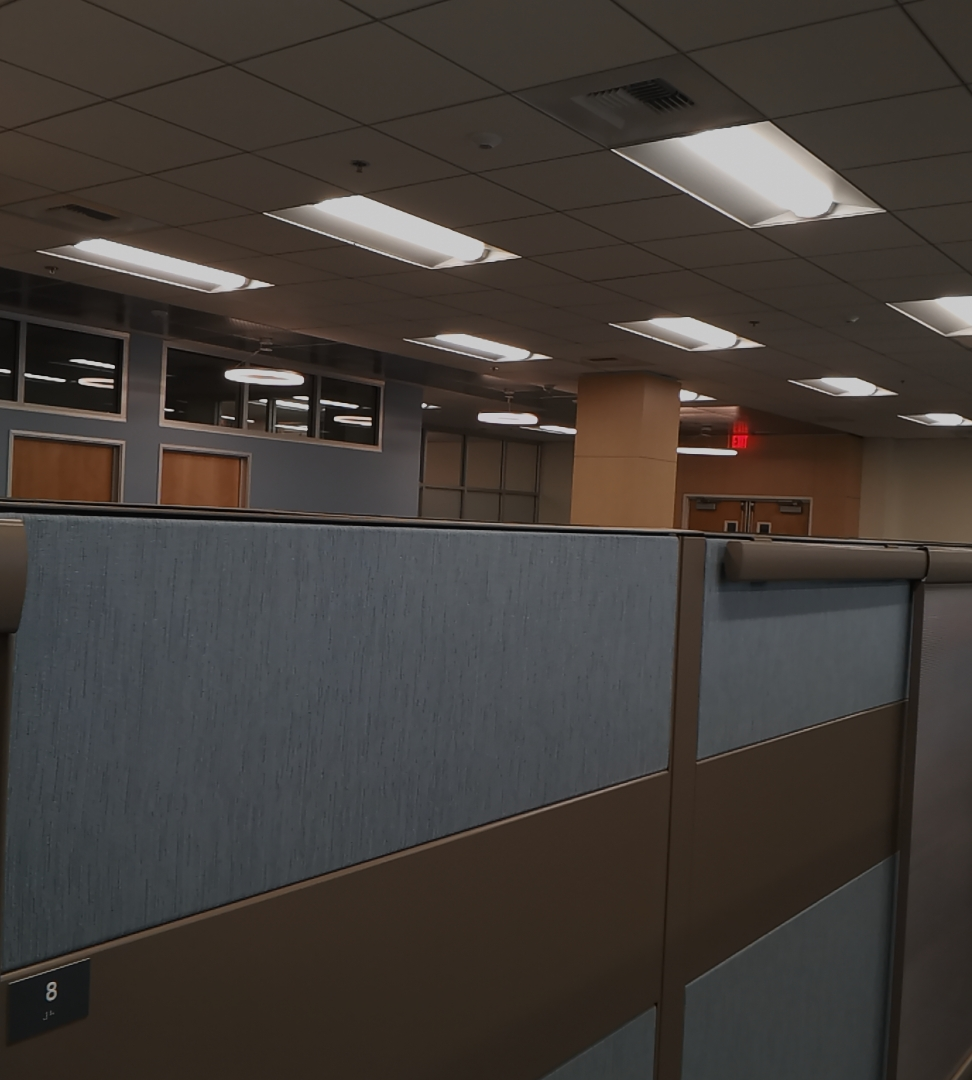emergency_exit: (727, 420, 751, 451)
